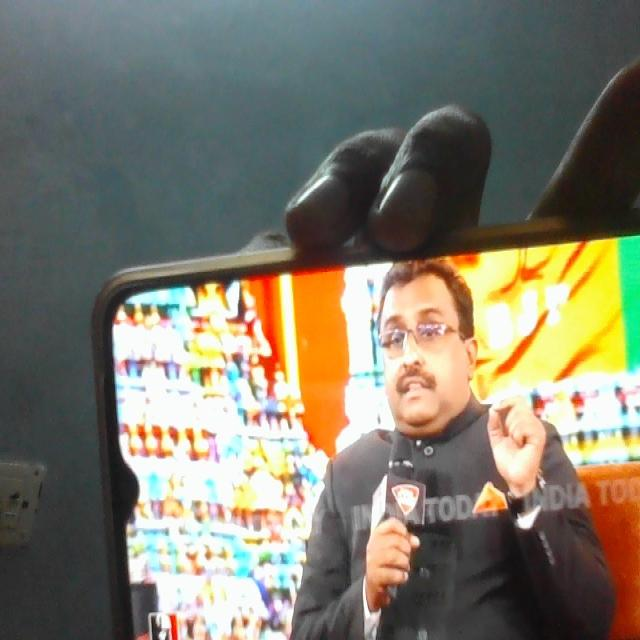fake: (374, 246, 473, 434)
